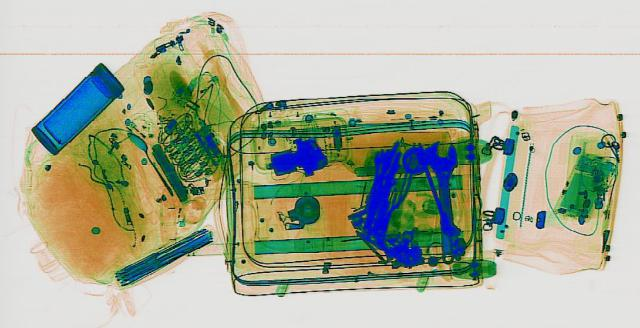Wrench: (420, 138, 470, 262)
